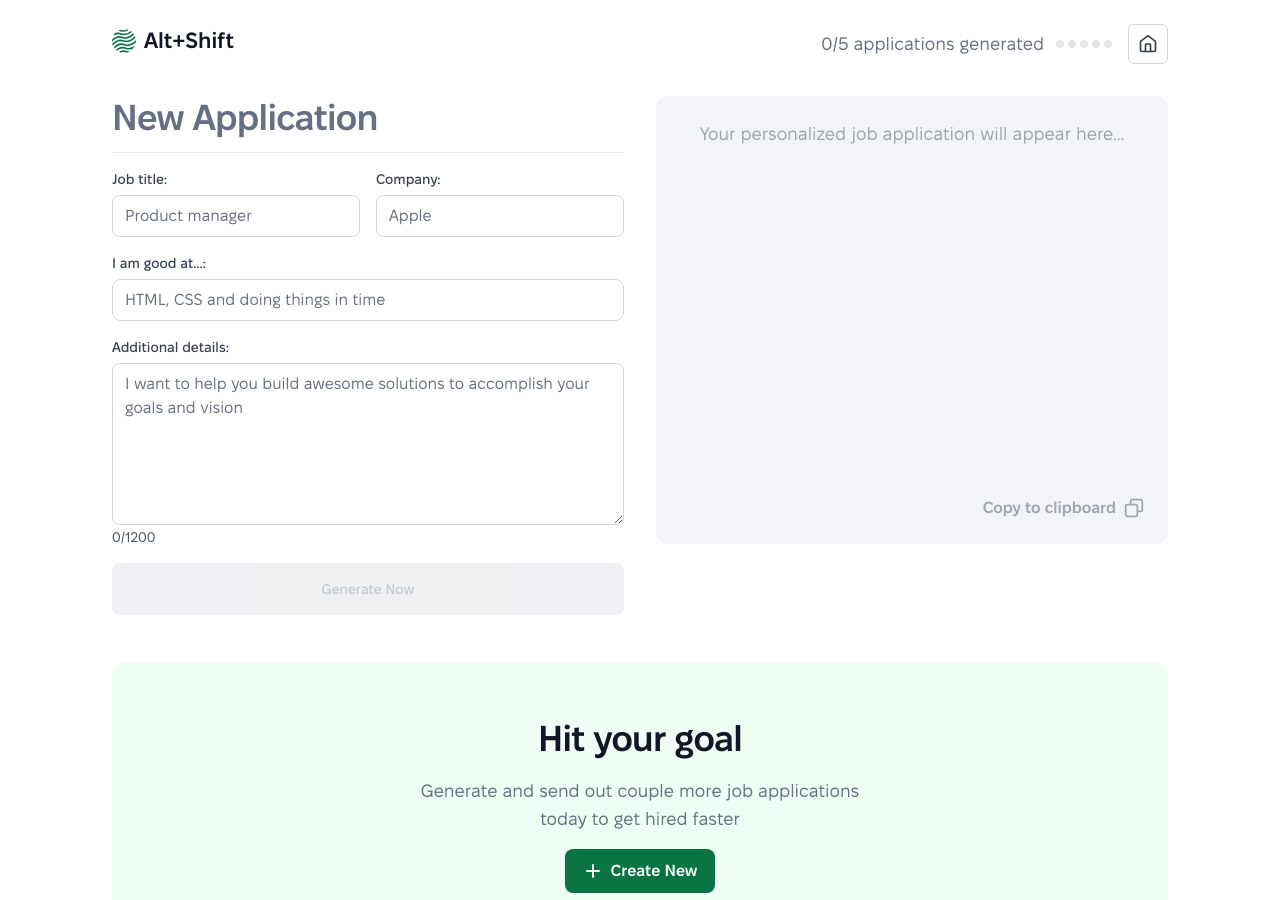
Test: Generator › should update title when job title and company are filled
Type "Developer" into the field labelled "Job title:" at (236, 216), box left=112, top=195, right=360, bottom=237
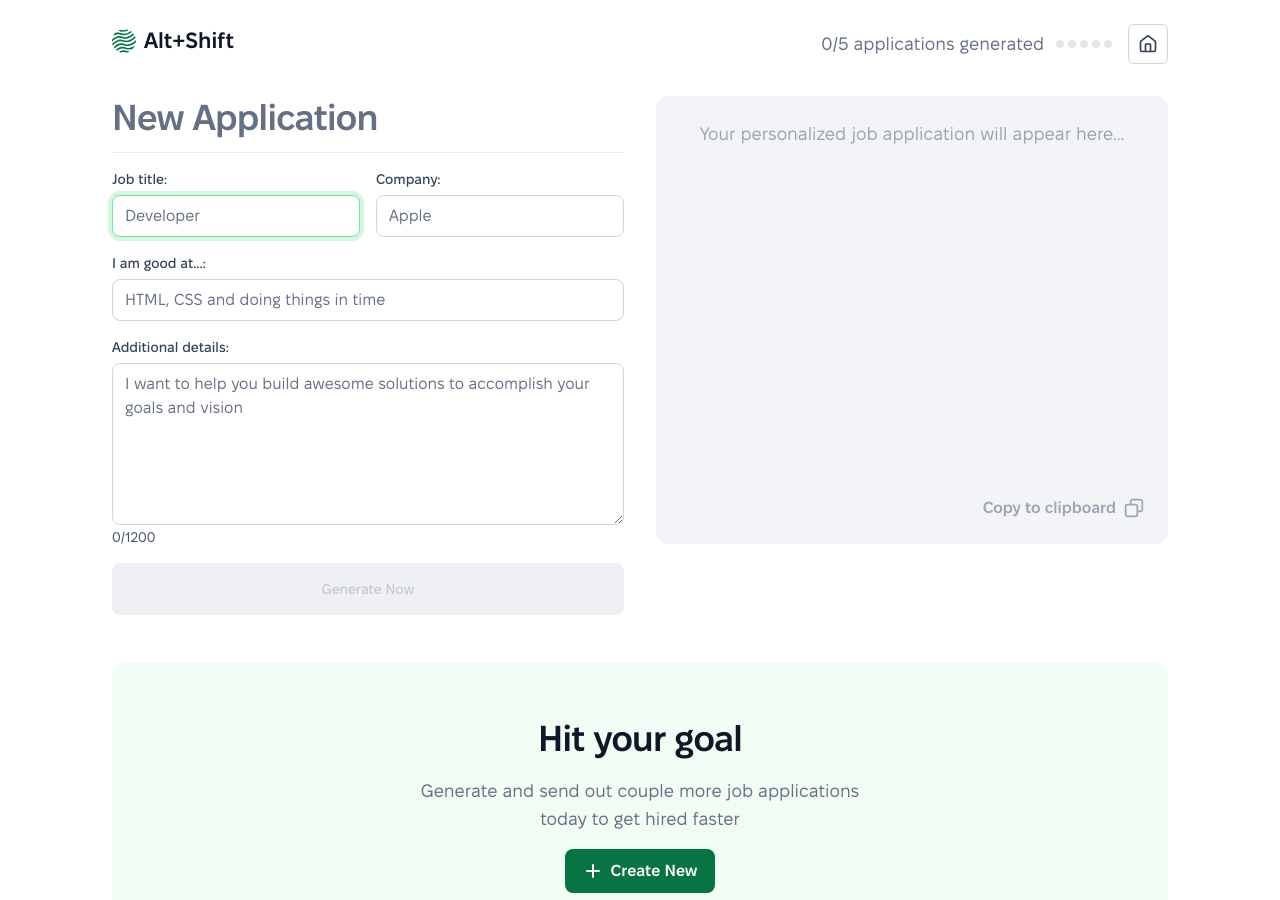
Type "Tech Corp" into the field labelled "Company:" at (500, 216), box left=376, top=195, right=624, bottom=237
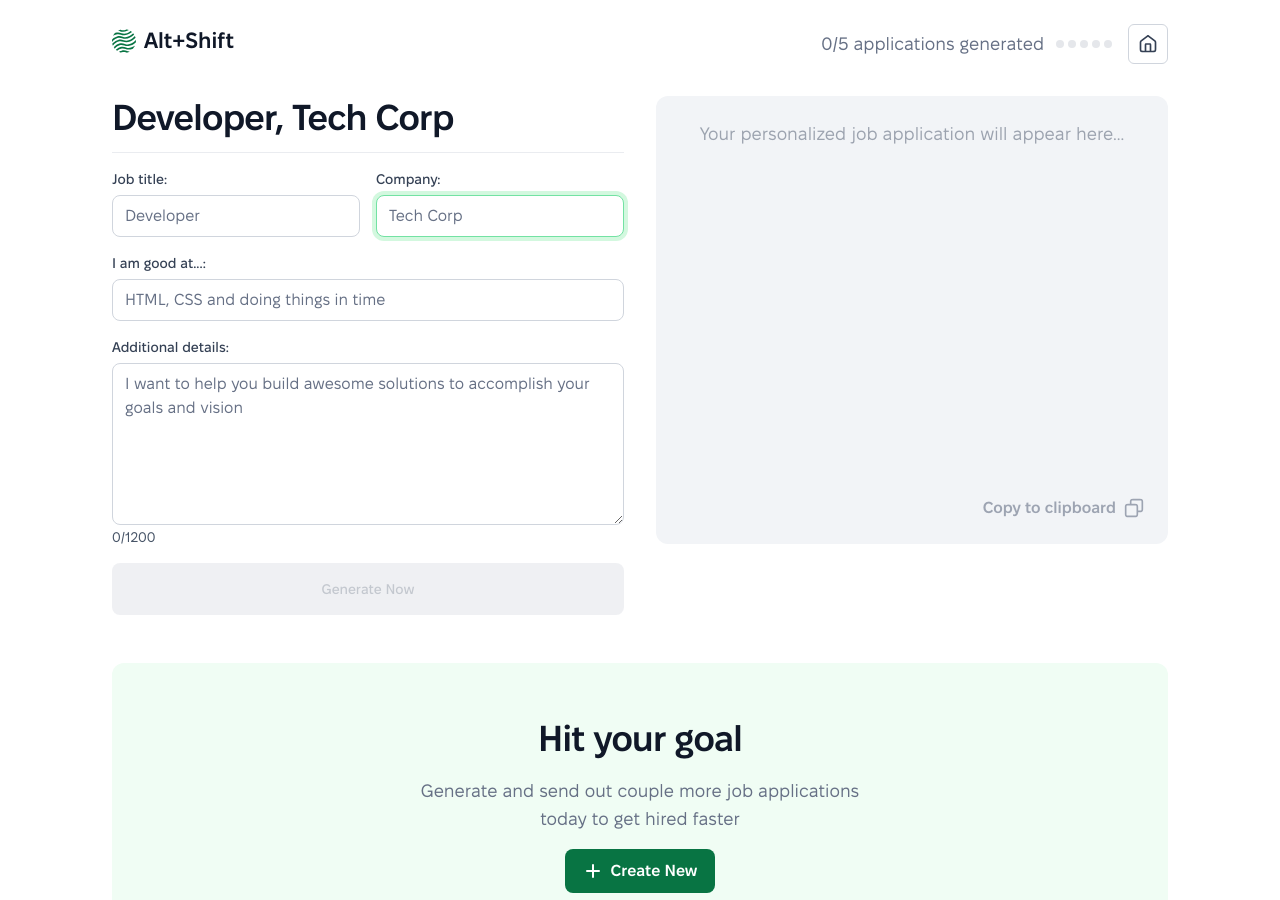
Check: the heading "Developer, Tech Corp" is shown, box left=112, top=98, right=454, bottom=137
